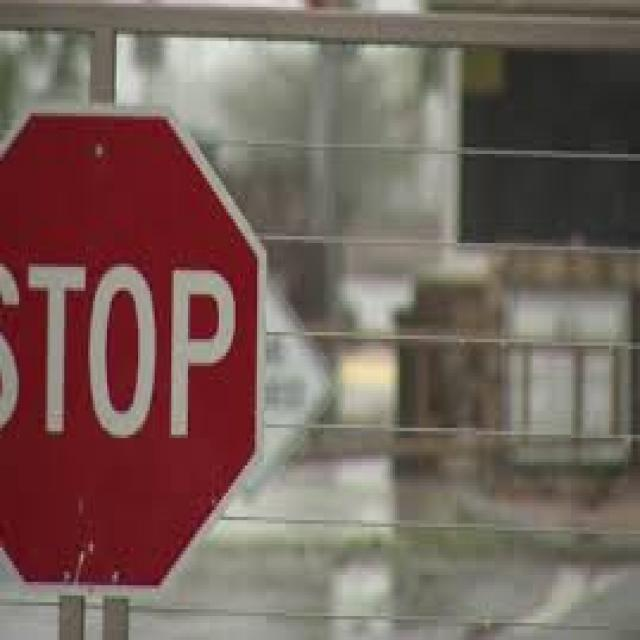stop-sign: (0, 65, 236, 534)
